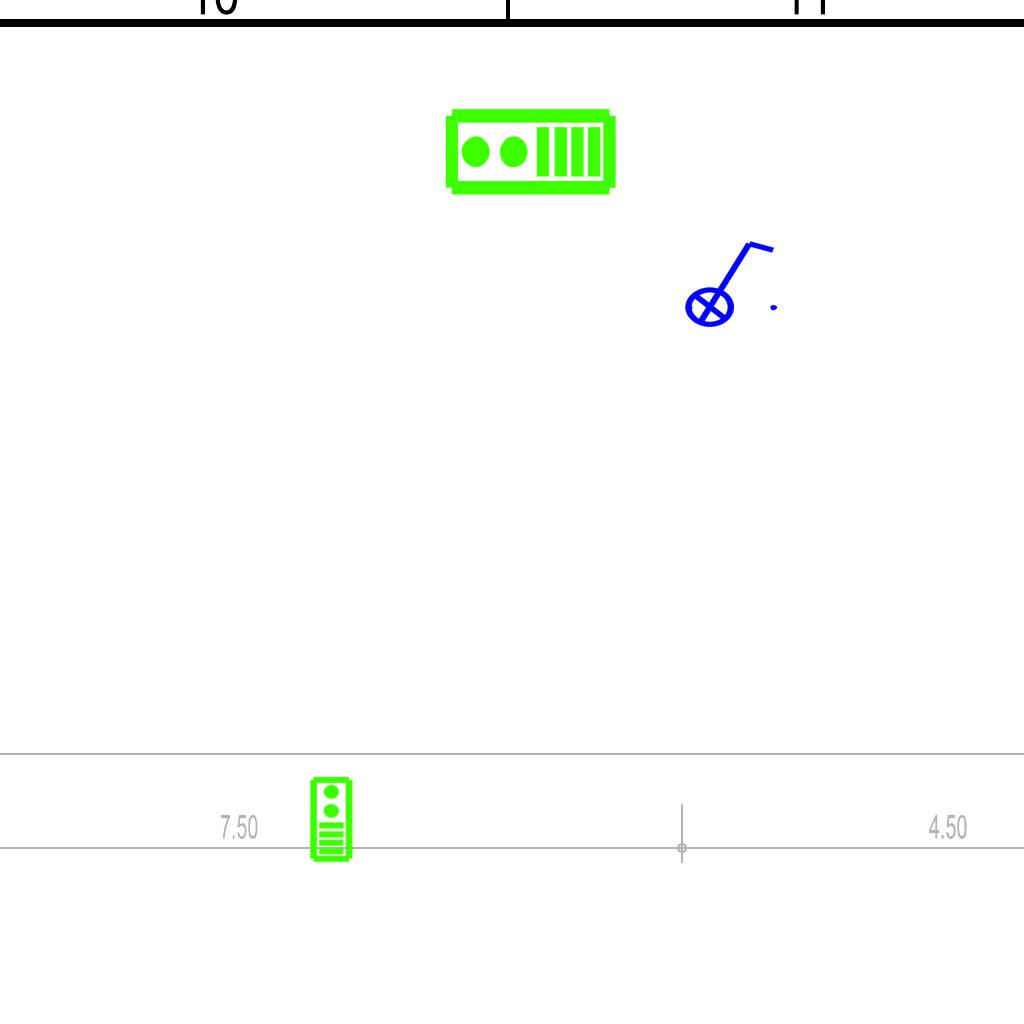Ausschalter_beleuchtet: (671, 233, 783, 329)
Gegensprechanlage_mit_Video: (442, 106, 618, 201), (307, 775, 354, 863)
